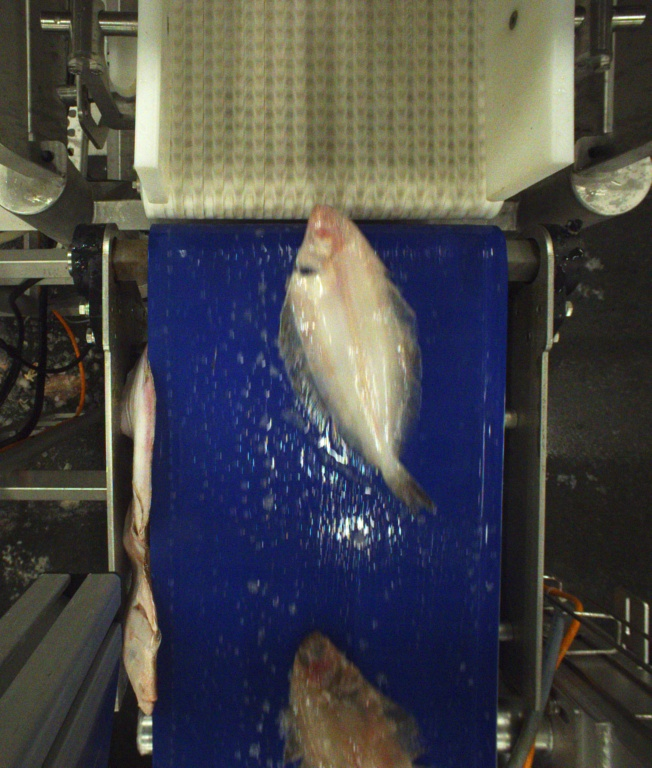WIT: (279, 199, 446, 518)
